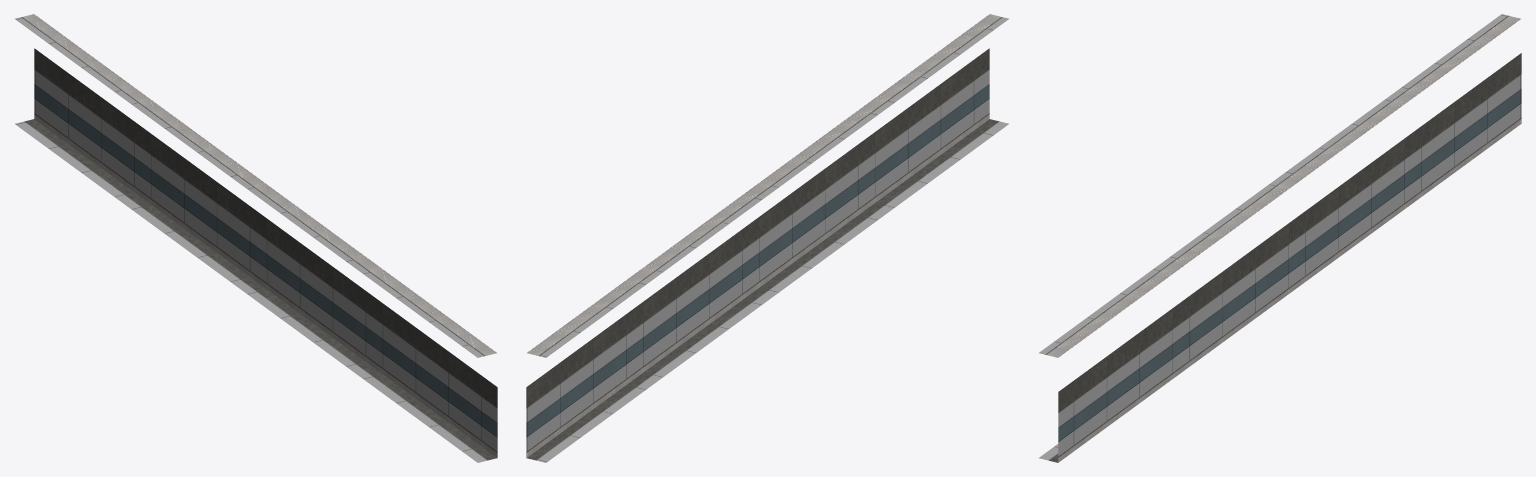
Rendered from median.fbx.
3 views of the same model, side by side, from view 1: azimuth 30°, elevation 25°; view 2: azimuth 150°, elevation 25°; view 3: azimuth 330°, elevation 25° (orthographic).
Parts seen in each view (by area): view 1: Tunnel.002; view 2: Tunnel.002; view 3: Tunnel.002.
Boxes of the visible parts, <box> form: Tunnel.002: <box>14,14,497,462</box>; Tunnel.002: <box>526,14,1009,462</box>; Tunnel.002: <box>1038,14,1521,462</box>.
Size of the model in its own units: 157 by 800 by 6400.
